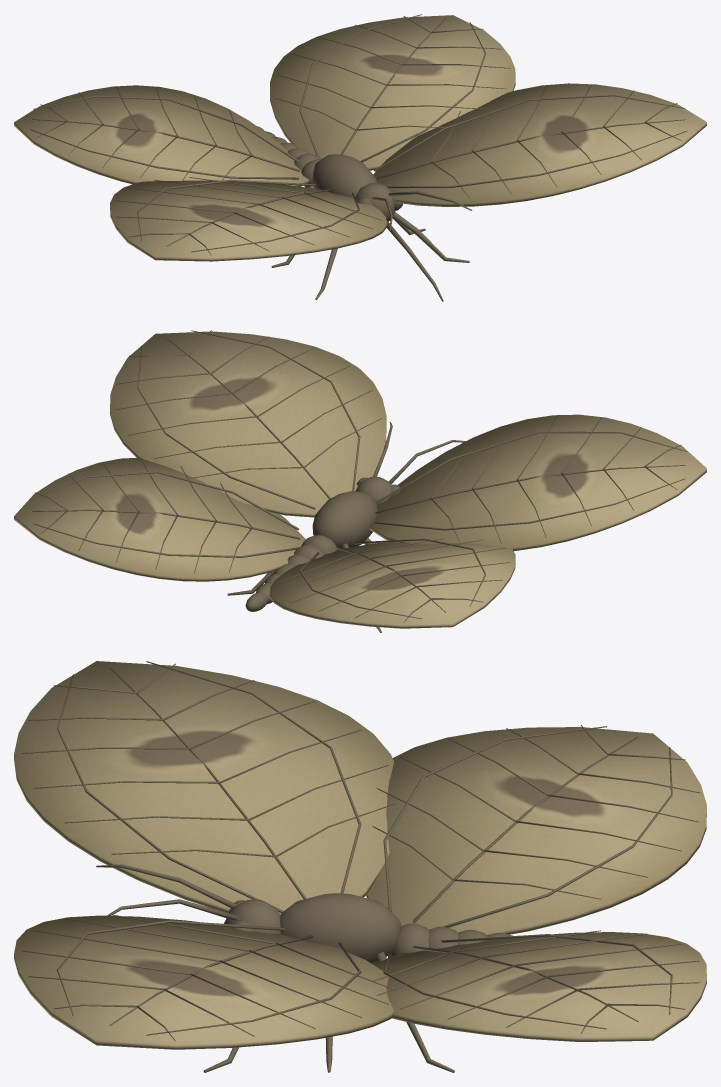
File: kalligramma.glb
The picture shows the model from 3 angles, top to bottom: view 1: azimuth 30°, elevation 25°; view 2: azimuth 150°, elevation 25°; view 3: azimuth 270°, elevation 25°; orthographic projection. The views are drawn at different scales.
Parts seen in each view (by area): view 1: four-volumetric-rounded-wings, branched-wing-veins, head-thorax-and-segmented-abdomen, six-legs-two-antennae-and-proboscis; view 2: four-volumetric-rounded-wings, branched-wing-veins, head-thorax-and-segmented-abdomen, six-legs-two-antennae-and-proboscis; view 3: four-volumetric-rounded-wings, branched-wing-veins, head-thorax-and-segmented-abdomen, six-legs-two-antennae-and-proboscis.
Part boxes in pixels (x1=…): four-volumetric-rounded-wings: x1=14, y1=15, x2=706, y2=261; branched-wing-veins: x1=30, y1=14, x2=687, y2=255; head-thorax-and-segmented-abdomen: x1=257, y1=126, x2=402, y2=221; six-legs-two-antennae-and-proboscis: x1=271, y1=186, x2=472, y2=301; four-volumetric-rounded-wings: x1=14, y1=331, x2=706, y2=628; branched-wing-veins: x1=30, y1=330, x2=687, y2=622; head-thorax-and-segmented-abdomen: x1=245, y1=476, x2=400, y2=611; six-legs-two-antennae-and-proboscis: x1=227, y1=422, x2=465, y2=632; four-volumetric-rounded-wings: x1=14, y1=661, x2=706, y2=1049; branched-wing-veins: x1=21, y1=661, x2=700, y2=1041; head-thorax-and-segmented-abdomen: x1=224, y1=893, x2=512, y2=964; six-legs-two-antennae-and-proboscis: x1=96, y1=864, x2=454, y2=1072.
Size of the model in its own units: 0.108 by 0.0234 by 0.0834.
Materials: 3 (1 with a texture image).
